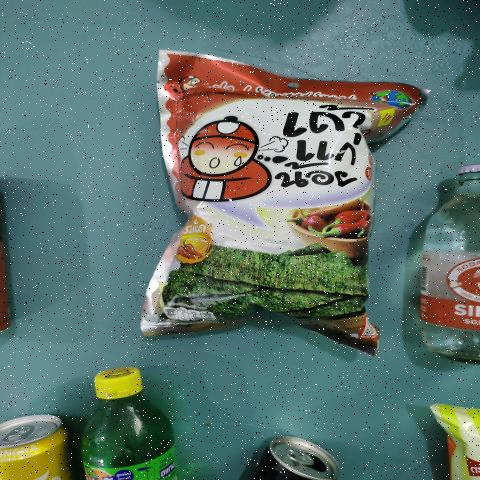taokaenoi: (153, 78, 383, 328)
